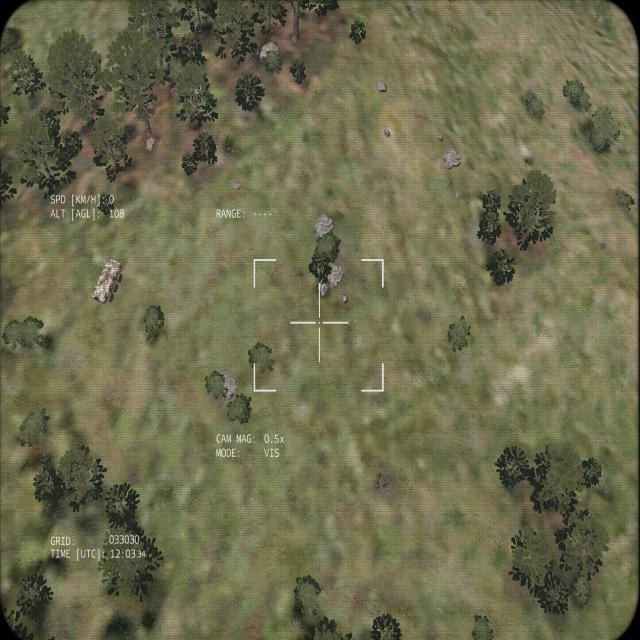apc: (90, 260, 122, 306)
